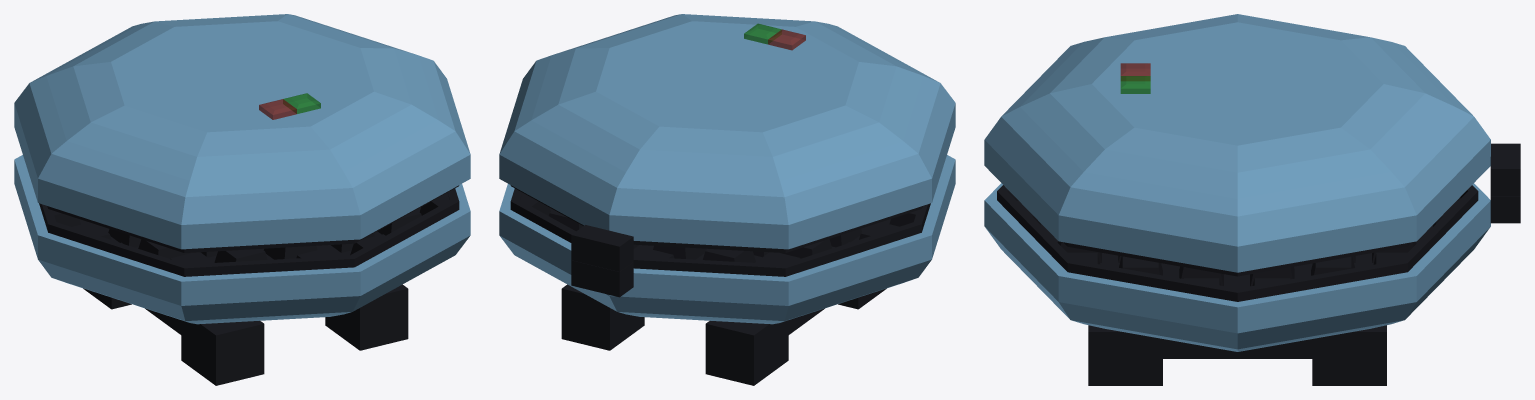
File: wafflera.fbx
3 views of the same model, side by side, from view 1: azimuth 30°, elevation 25°; view 2: azimuth 150°, elevation 25°; view 3: azimuth 270°, elevation 25° (orthographic). The views are drawn at different scales.
Parts seen in each view (by area): view 1: wafflera tapa, wafflera base; view 2: wafflera tapa, wafflera base; view 3: wafflera tapa, wafflera base.
Boxes of the visible parts, x1=… form: wafflera tapa: x1=14, y1=14, x2=470, y2=252; wafflera base: x1=14, y1=155, x2=470, y2=385; wafflera tapa: x1=499, y1=14, x2=955, y2=271; wafflera base: x1=499, y1=155, x2=955, y2=385; wafflera tapa: x1=984, y1=14, x2=1520, y2=276; wafflera base: x1=984, y1=183, x2=1520, y2=385.
Bounding box in the file's own units: 16.96 × 9.67 × 17.95.
